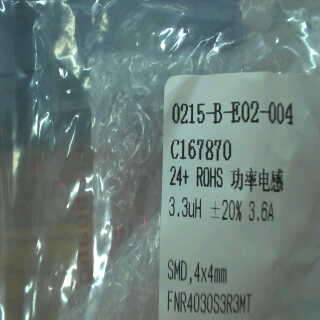3.3uH: (166, 191, 202, 227)
